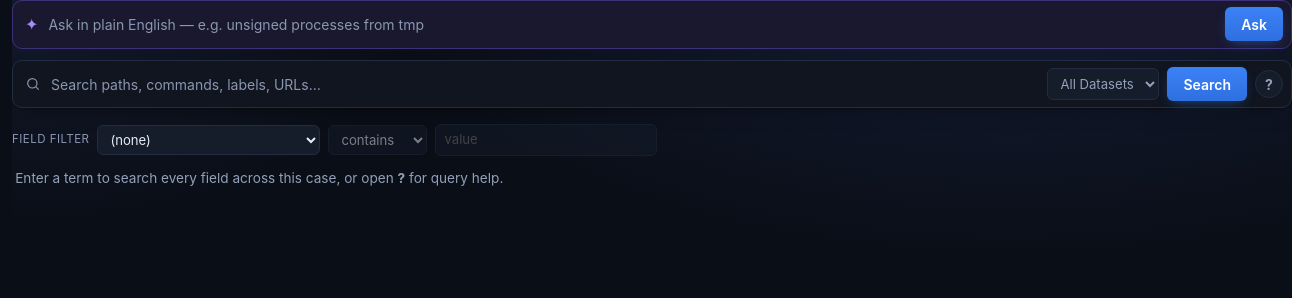
Scenario: Search › scopes results to a chosen dataset
The width and height of the screenshot is (1292, 298).
Select "tcc" in the dropdown named "dataset filter" at coordinates (1104, 84), box [1048,68,1160,100]
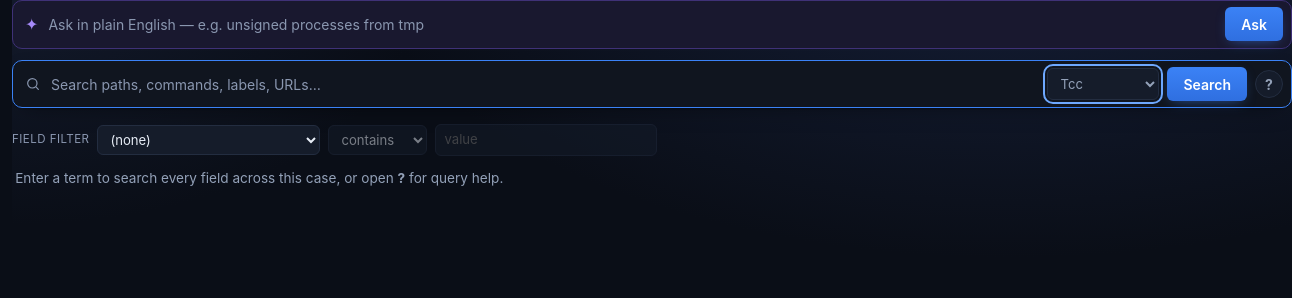
Type "com" into the field named "query" at coordinates (544, 84), box [49,72,1040,96]
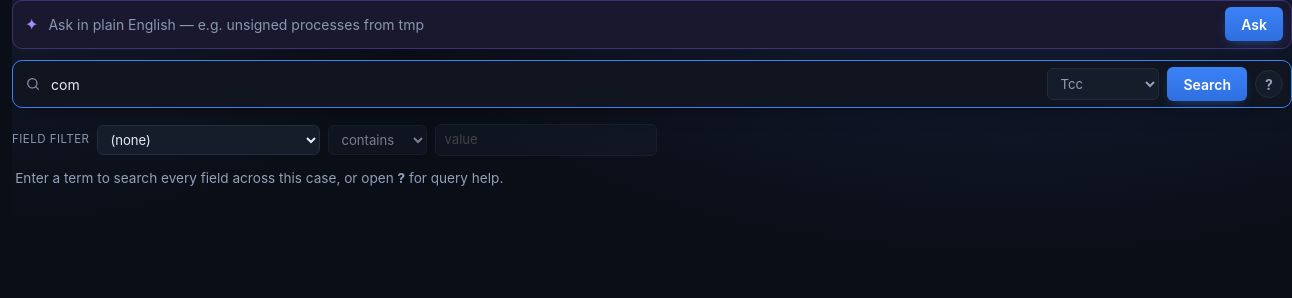
Click the button "Search" at coordinates (1207, 84), box [1168,67,1247,101]
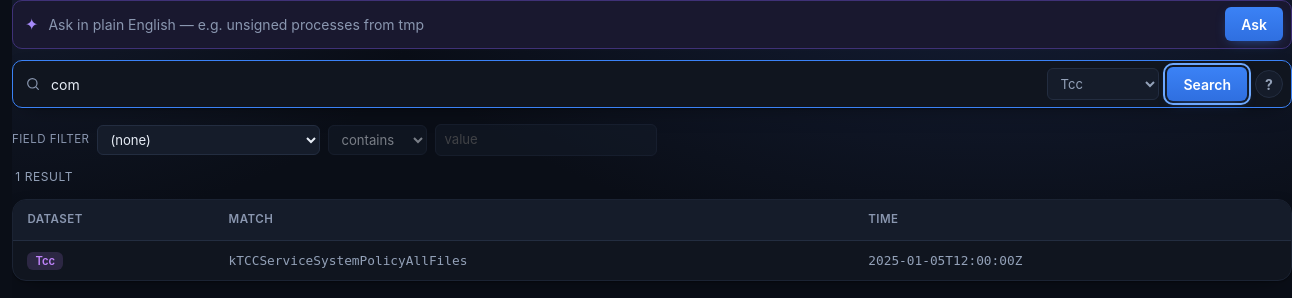
Expected: the text "tcc" is shown, [27,252,63,270]
